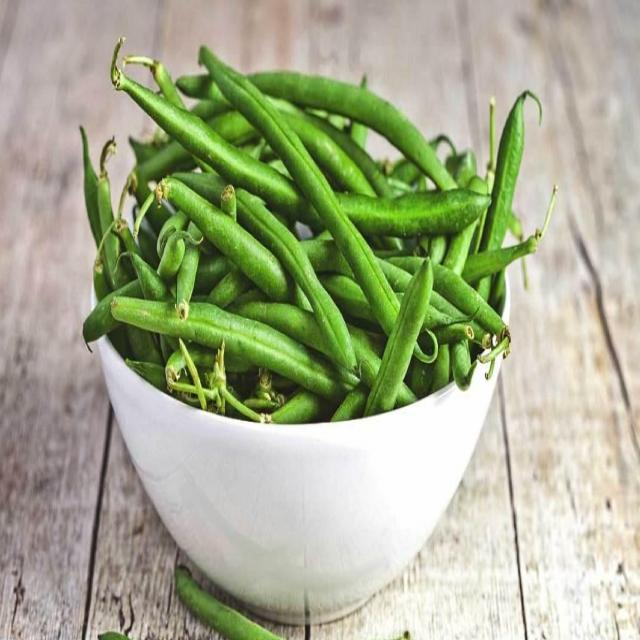Beans: (77, 12, 562, 430), (89, 554, 415, 639)
